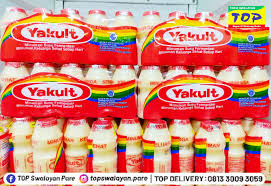Yakult (325ml): (137, 9, 268, 69), (0, 5, 136, 60), (1, 63, 135, 115), (140, 65, 263, 117)
